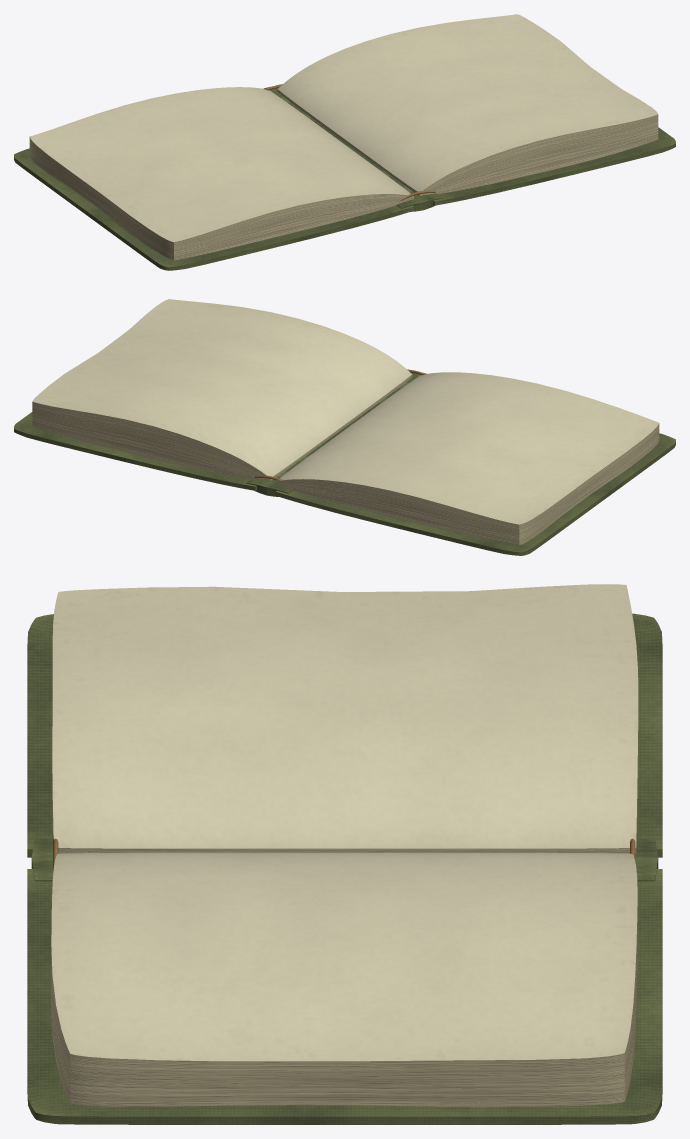
Rendered from OpenBook_03.fbx.
3 views of the same model, one above another, from view 1: azimuth 30°, elevation 25°; view 2: azimuth 150°, elevation 25°; view 3: azimuth 270°, elevation 25° (orthographic). The views are drawn at different scales.
Parts seen in each view (by area): view 1: OpenBook_03.001; view 2: OpenBook_03.001; view 3: OpenBook_03.001.
Part boxes in pixels (x1=…): OpenBook_03.001: x1=14, y1=14, x2=675, y2=270; OpenBook_03.001: x1=14, y1=299, x2=675, y2=555; OpenBook_03.001: x1=27, y1=584, x2=662, y2=1124.
Size of the model in its own units: 0.408 by 0.0278 by 0.218.
